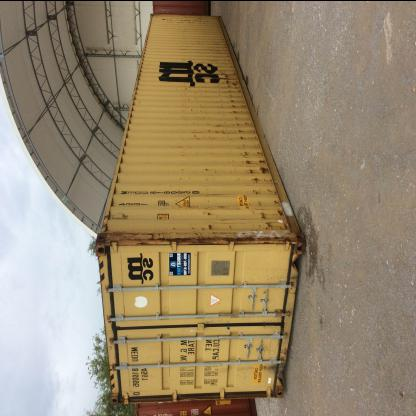Damage: (221, 62, 271, 194), (166, 157, 210, 190), (186, 120, 214, 156), (204, 202, 224, 234)
